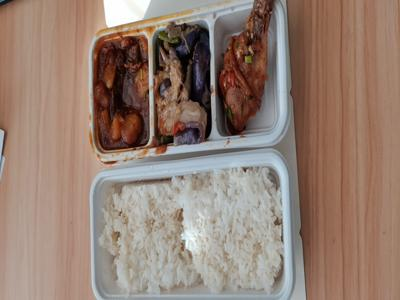jt: (213, 6, 281, 135)
rice: (99, 182, 287, 294)
sqz: (151, 23, 214, 143)
